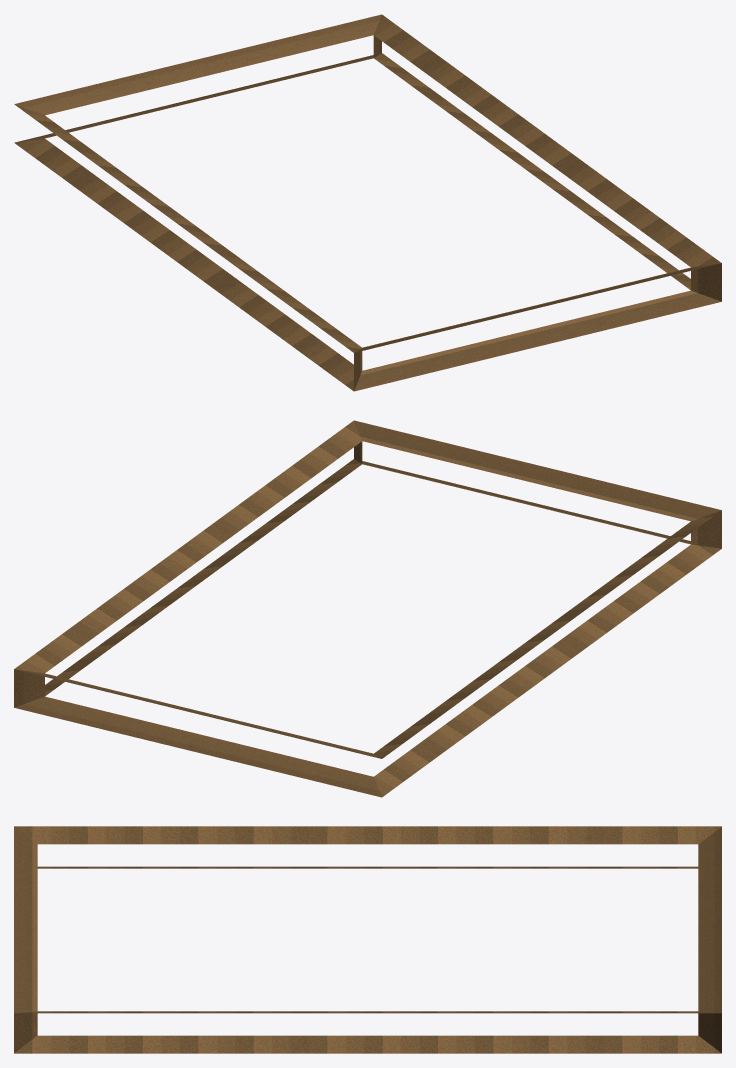
The picture shows the model from 3 angles, top to bottom: view 1: azimuth 30°, elevation 25°; view 2: azimuth 150°, elevation 25°; view 3: azimuth 270°, elevation 25°; orthographic projection. The views are drawn at different scales.
Visible parts, largest first — view 1: door_civic_lod0_run001; view 2: door_civic_lod0_run001; view 3: door_civic_lod0_run001.
Part boxes in pixels (x1,y1,x2,y2): door_civic_lod0_run001: (14,14,721,391); door_civic_lod0_run001: (14,420,721,797); door_civic_lod0_run001: (14,826,721,1053).
Bounding box in the file's own units: 1.5 × 0.15 × 2.4.
1 material, 1 textured.
